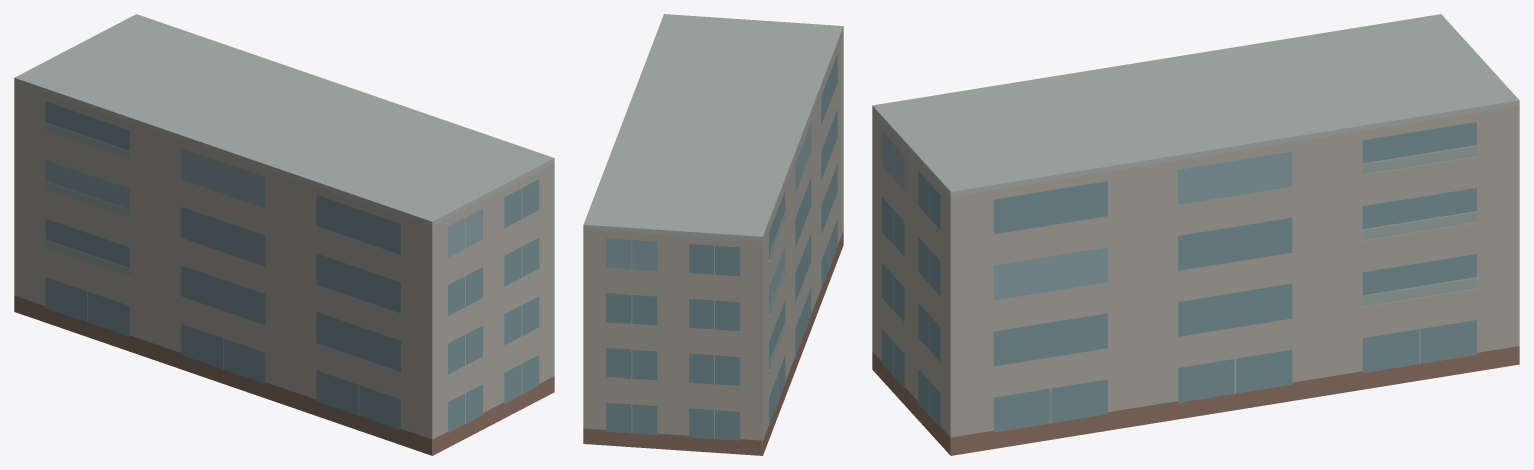
The model's file is survey-upis-32929294.glb.
3 views of the same model, side by side, from view 1: azimuth 30°, elevation 25°; view 2: azimuth 150°, elevation 25°; view 3: azimuth 270°, elevation 25° (orthographic). The views are drawn at different scales.
Parts seen in each view (by area): view 1: survey-upis-32929294.tmp; view 2: survey-upis-32929294.tmp; view 3: survey-upis-32929294.tmp.
Part boxes in pixels (<box>): survey-upis-32929294.tmp: <box>14,14,554,455</box>; survey-upis-32929294.tmp: <box>583,14,843,455</box>; survey-upis-32929294.tmp: <box>872,14,1519,455</box>.
Size of the model in its own units: 17.61 by 12.19 by 27.09.
